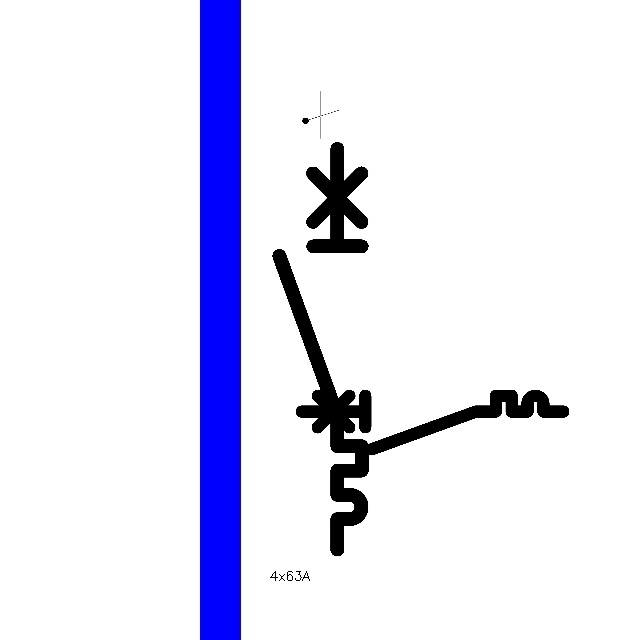interruptor_termomagnetico: (269, 138, 372, 559), (295, 389, 570, 456)
